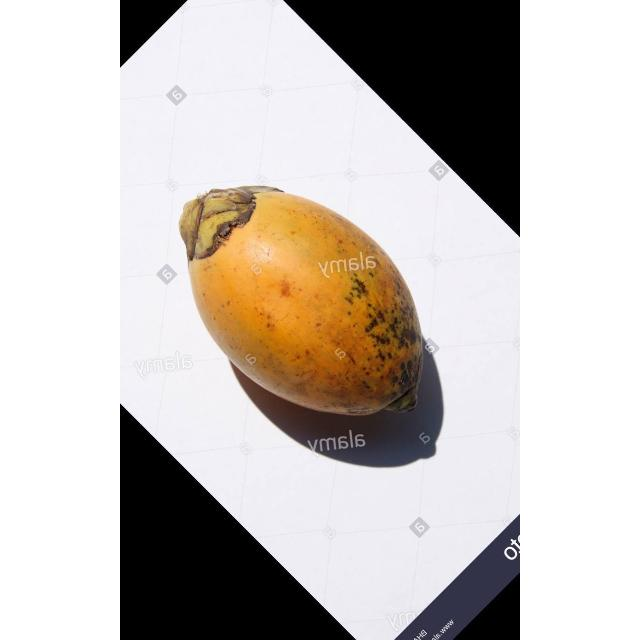good: (179, 187, 424, 418)
